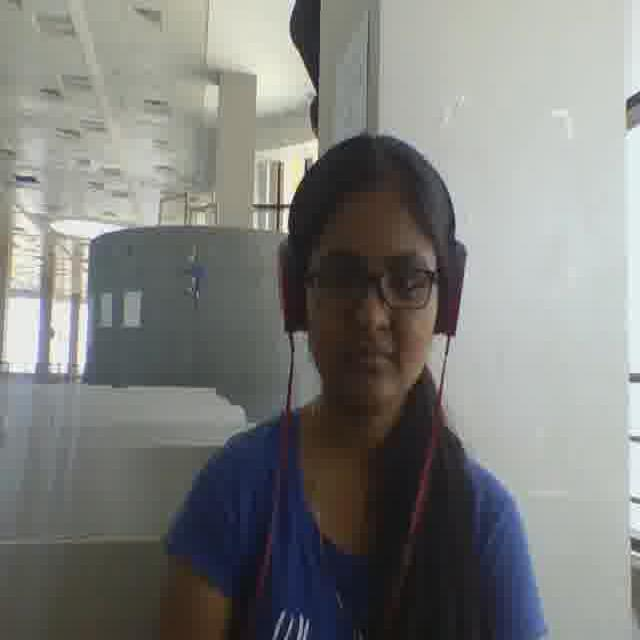Frustration: (313, 197, 433, 403)
